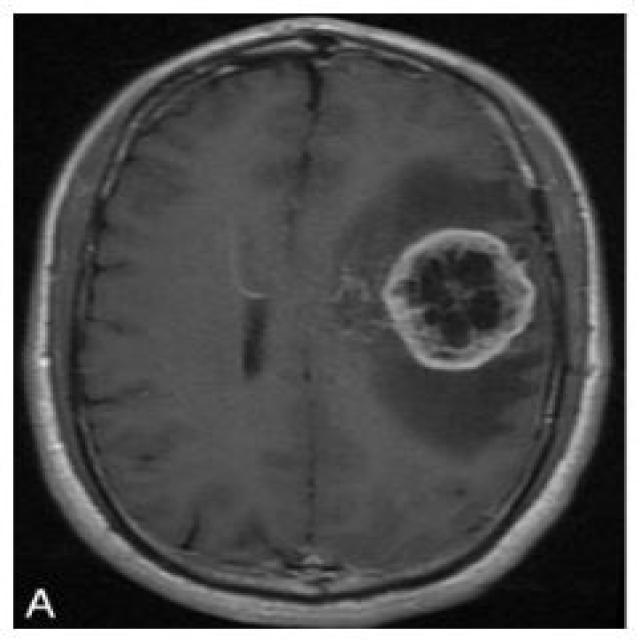Tumor-Cell: (388, 215, 531, 382)
